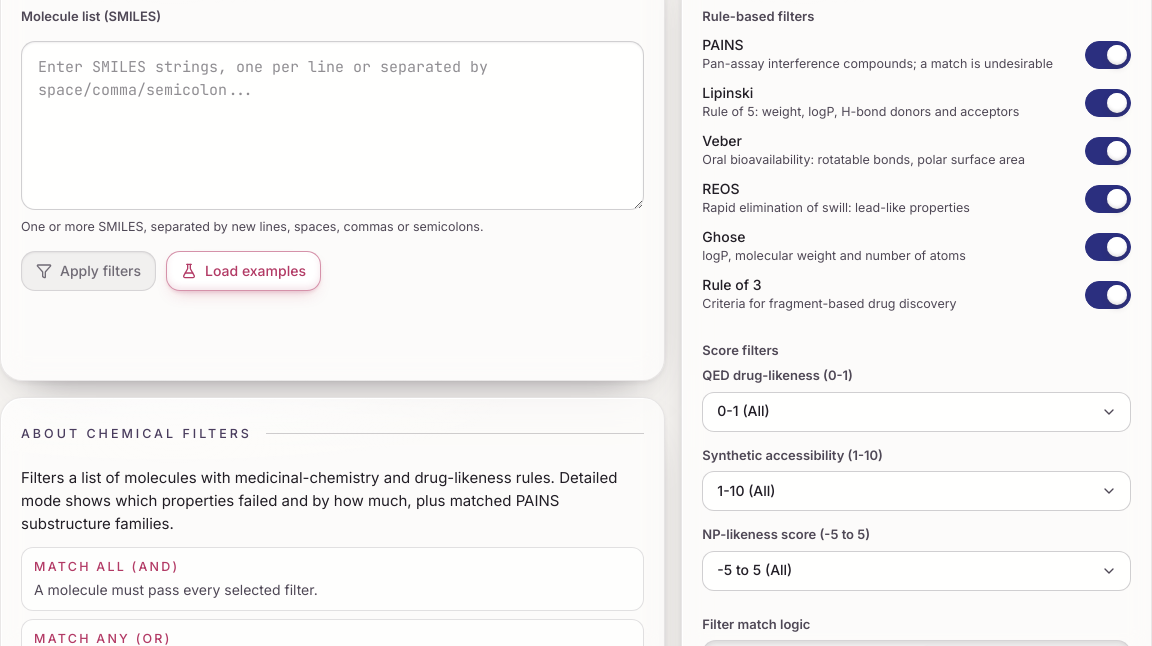
AllFiltersView (bento) › tabulates the filter results
Replace the text in the text box labelled "Molecule list (SMILES)" with "CCO" at point(333, 125), box [21,40,644,210]
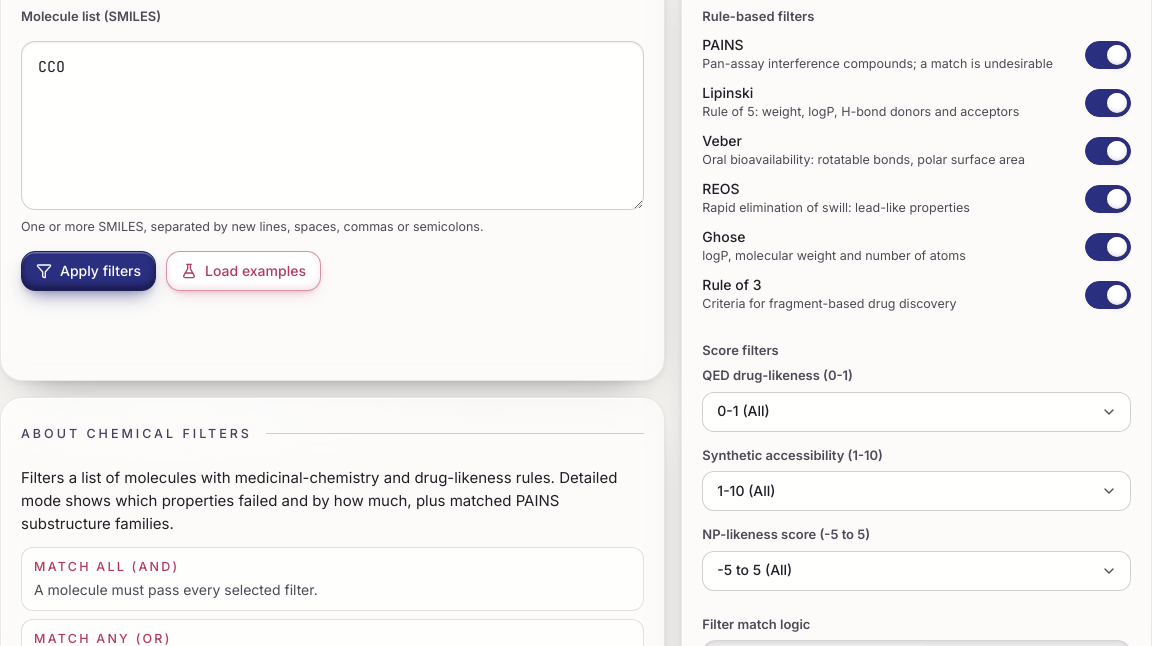
Click the button "Apply filters" at point(89, 271), box [21,251,156,291]
(page scrolled)
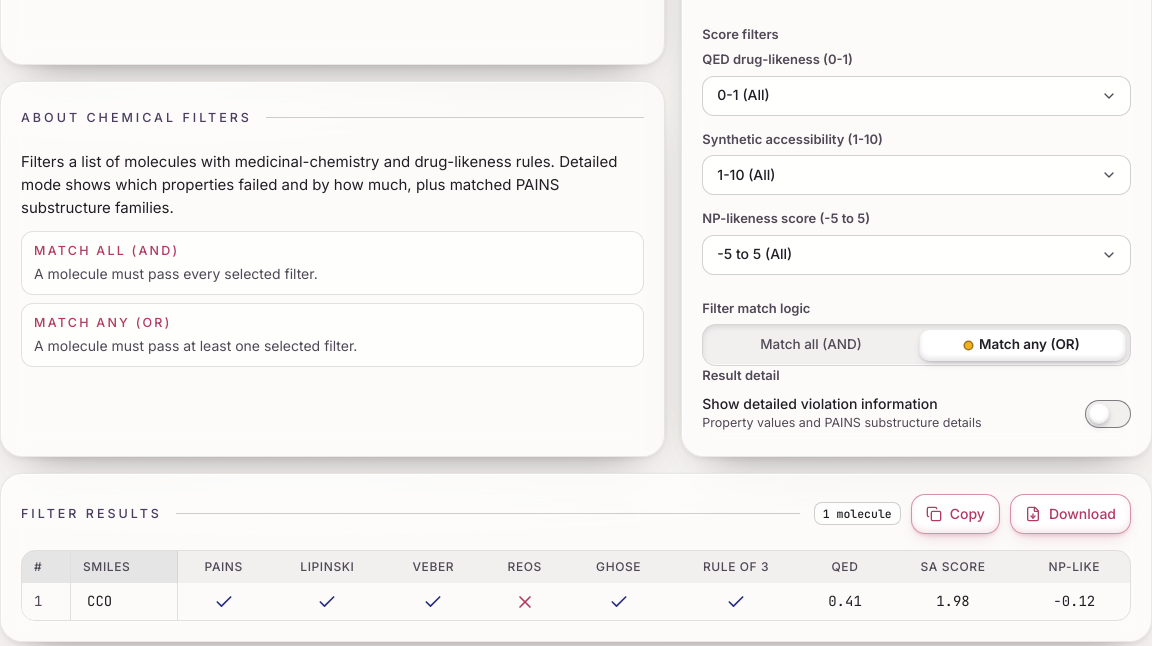
Now the text "CCO" is shown, box [70,582,177,620]
Now the text "0.41" is shown, box [828,592,862,610]
Now the number of icons named "Fail" is 1, box [515,592,535,612]
